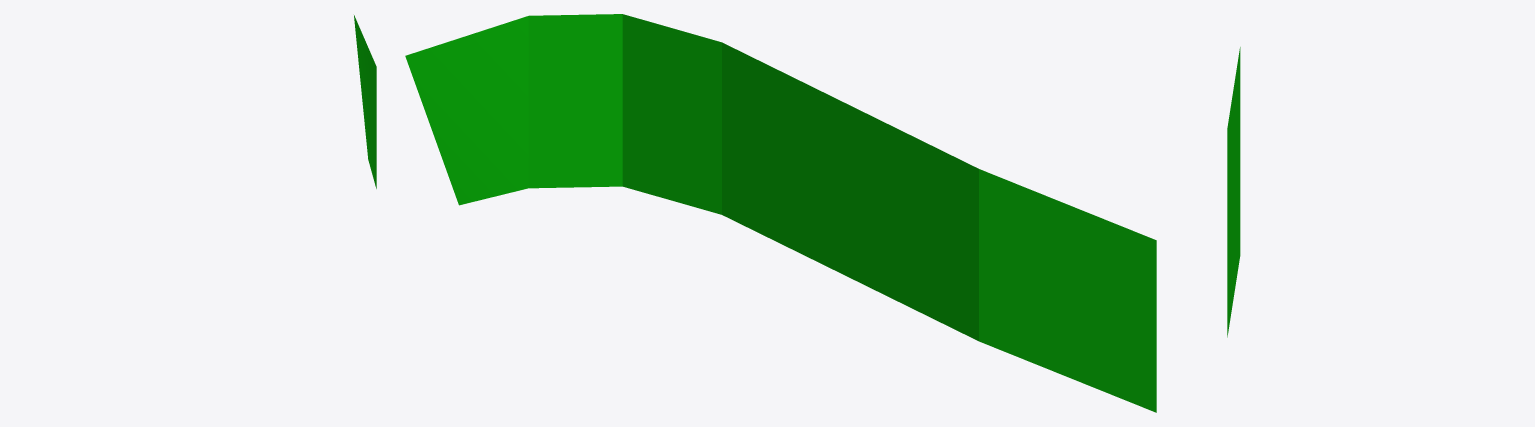
Rendered from M8_Idiot_Stopper_06.glb.
The picture shows the model from 3 angles, left to right: view 1: azimuth 30°, elevation 25°; view 2: azimuth 150°, elevation 25°; view 3: azimuth 270°, elevation 25°; orthographic projection. The views are drawn at different scales.
Visible parts, largest first — view 1: M8_IDIOT_STOPPER_06; view 2: M8_IDIOT_STOPPER_06; view 3: M8_IDIOT_STOPPER_06.
Boxes of the visible parts, x1=… form: M8_IDIOT_STOPPER_06: x1=354, y1=15, x2=376, y2=188; M8_IDIOT_STOPPER_06: x1=405, y1=14, x2=1156, y2=412; M8_IDIOT_STOPPER_06: x1=1227, y1=47, x2=1240, y2=337.
Bounding box in the file's own units: 27.91 × 13.4 × 10.87.
